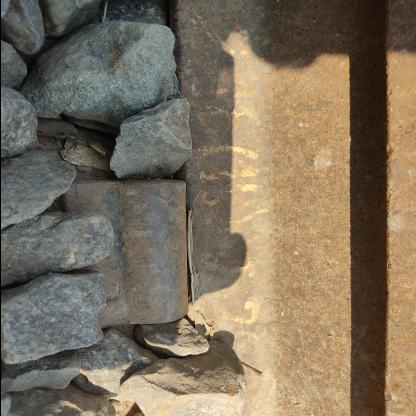Defective 1: (42, 138, 235, 362)
